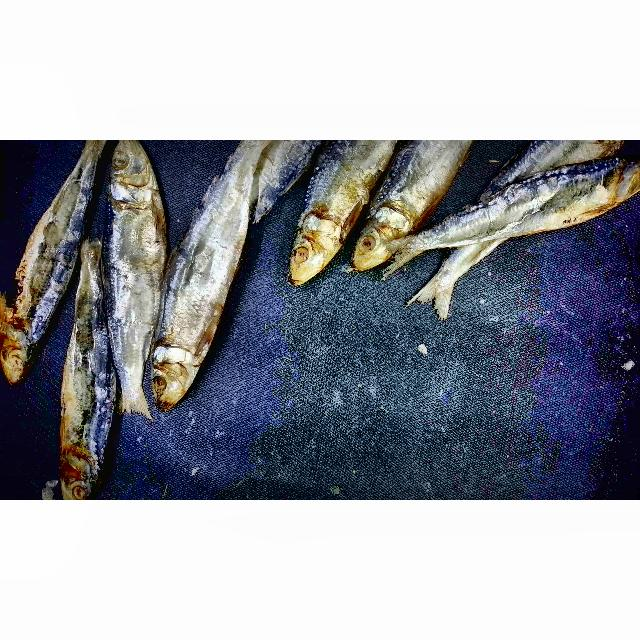Grade_C_Body: (160, 160, 253, 351), (440, 154, 615, 252), (8, 181, 90, 323), (104, 203, 165, 379), (296, 140, 396, 227), (371, 141, 474, 216)
Grade_C_Head: (63, 287, 117, 431), (283, 211, 351, 287), (146, 332, 203, 412), (350, 203, 413, 275), (105, 140, 164, 213), (54, 433, 109, 500), (0, 307, 39, 386)
Grade_C_Tail: (408, 266, 468, 321), (382, 229, 429, 280), (118, 380, 152, 421), (74, 237, 103, 267)
